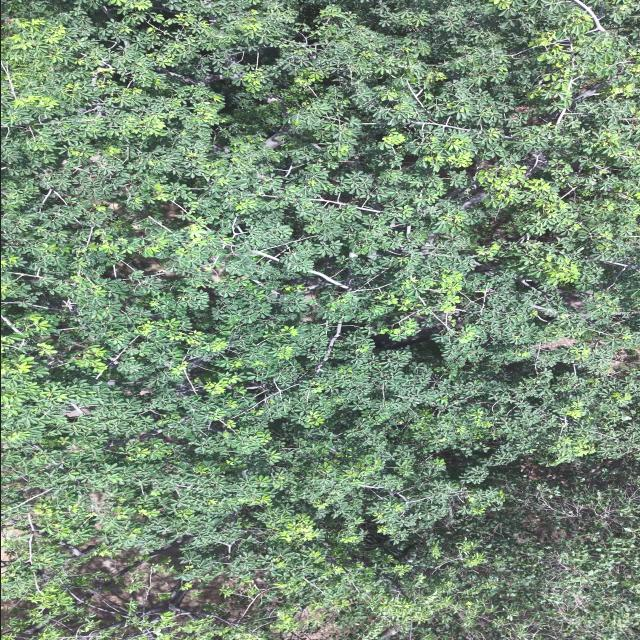VEGETATION_TREE: (1, 0, 639, 639)
